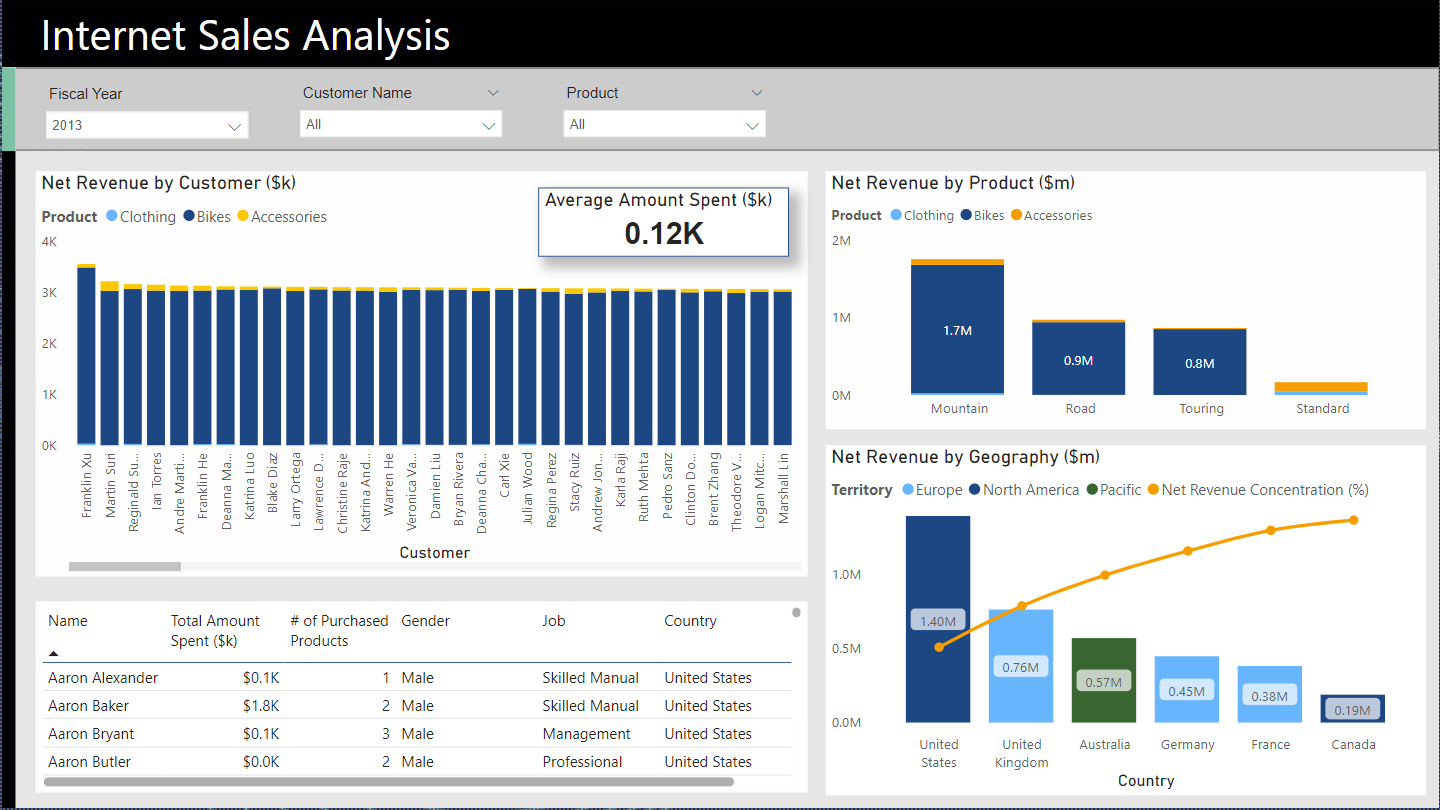

This screenshot's page, from the dashboard's own definition file:
{"tool":"powerbi","page":{"name":"Internet Sales Analysis","canvas":[1280,720],"ordinal":2},"visuals":[{"type":"shape","box":[0,134.3,1280,586],"z":0},{"type":"textbox","box":[0,0,1280,60],"z":1000},{"type":"shape","box":[0,60,1280,74],"z":2000},{"type":"shape","box":[0,60,12,74],"z":3000},{"type":"shape","box":[0,134,12,586],"z":4000},{"type":"lineStackedColumnComboChart","title":"Net Revenue by Customer ($k)","fields":{"Category":["Internet sales data v5.Name"],"Y":["Internet sales data v5.Net Revenue"],"Series":["Internet sales data v5.Product"]},"box":[30.3,152.8,686.9,360.7],"z":5000},{"type":"slicer","fields":{"Values":["Internet sales data v5.FiscalYear"]},"box":[29,71,200,54],"z":6000},{"type":"columnChart","title":"Net Revenue by Product ($m)","fields":{"Y":["Internet sales data v5.Net Revenue"],"Category":["Internet sales data v5.Product Line","Internet sales data v5.Product Sub-category"],"Series":["Internet sales data v5.Product"]},"box":[733.6,152.5,534.4,229.4],"z":7000},{"type":"tableEx","title":"Net Revenue Customer Concentration","fields":{"Values":["Internet sales data v5.Name","Internet sales data v5.Gross Revenue","Internet sales data v5.Volume","Internet sales data v5.Gender","Internet sales data v5.Job","Internet sales data v5.Country"]},"box":[30.2,535.7,686.8,170.3],"z":8000},{"type":"slicer","fields":{"Values":["Internet sales data v5.Name"]},"box":[255,70.1,200.5,54.5],"z":9000},{"type":"card","title":"Average Amount Spent ($k)","fields":{"Values":["Internet sales data v5.Net Revenue"]},"box":[477.7,166.6,223,61.9],"z":10000},{"type":"slicer","fields":{"Values":["Internet sales data v5.Product"]},"box":[489.6,70.1,200.5,54.5],"z":11000},{"type":"lineStackedColumnComboChart","title":"Net Revenue by Geography ($m)","fields":{"Y":["Internet sales data v5.nr"],"Y2":["Internet sales data v5.pareto"],"Category":["Internet sales data v5.Country"],"Series":["Internet sales data v5.Territory"]},"box":[733.6,395.6,534.4,311.8],"z":12000},{"type":"shape","box":[0,60.6,12.4,74.3],"z":13000}]}

Visuals, with their boxes in screenshot pixels (x1, y1, x2, y2), scaled from the page's 1280x720 canvas onto the 1440x810 screenshot:
shape: region(0, 151, 1439, 809)
textbox: region(0, 0, 1439, 68)
shape: region(0, 68, 1439, 151)
shape: region(0, 68, 14, 151)
shape: region(0, 151, 14, 809)
"Net Revenue by Customer ($k)" lineStackedColumnComboChart: region(34, 172, 807, 578)
slicer - Internet sales data v5.FiscalYear: region(33, 80, 258, 141)
"Net Revenue by Product ($m)" columnChart: region(825, 172, 1426, 430)
"Net Revenue Customer Concentration" tableEx: region(34, 603, 807, 794)
slicer - Internet sales data v5.Name: region(287, 79, 512, 140)
"Average Amount Spent ($k)" card: region(537, 187, 788, 257)
slicer - Internet sales data v5.Product: region(551, 79, 776, 140)
"Net Revenue by Geography ($m)" lineStackedColumnComboChart: region(825, 445, 1426, 796)
shape: region(0, 68, 14, 152)
